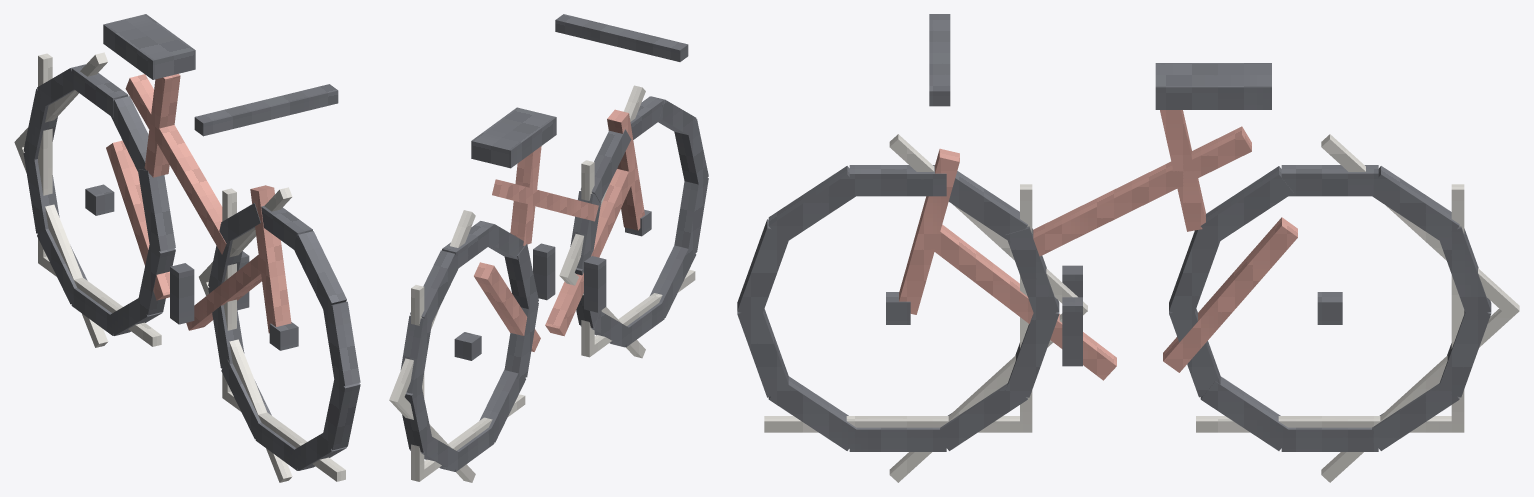
The model's file is pixel-modern-apartments-indoor-bicycle-84f7f251__29871.glb.
3 renders of one model, left to right at view 1: azimuth 30°, elevation 25°; view 2: azimuth 150°, elevation 25°; view 3: azimuth 270°, elevation 25°, orthographic. The views are drawn at different scales.
Visible parts, largest first — view 1: indoor-bicycle; view 2: indoor-bicycle; view 3: indoor-bicycle.
Boxes of the visible parts, box(x1,y1,x2,y2) form: indoor-bicycle: box(14, 14, 360, 482); indoor-bicycle: box(389, 14, 708, 482); indoor-bicycle: box(737, 14, 1519, 482).
Size of the model in its own units: 0.44 by 1.14 by 1.88.
3 materials, 3 textured.
